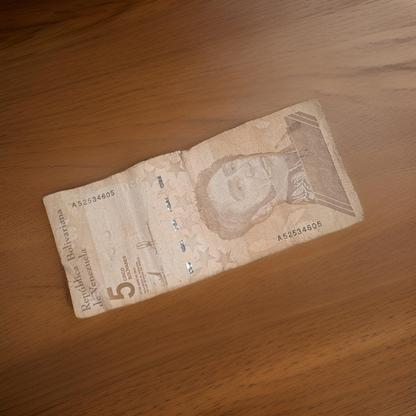five-front-vef: (41, 98, 364, 318)
